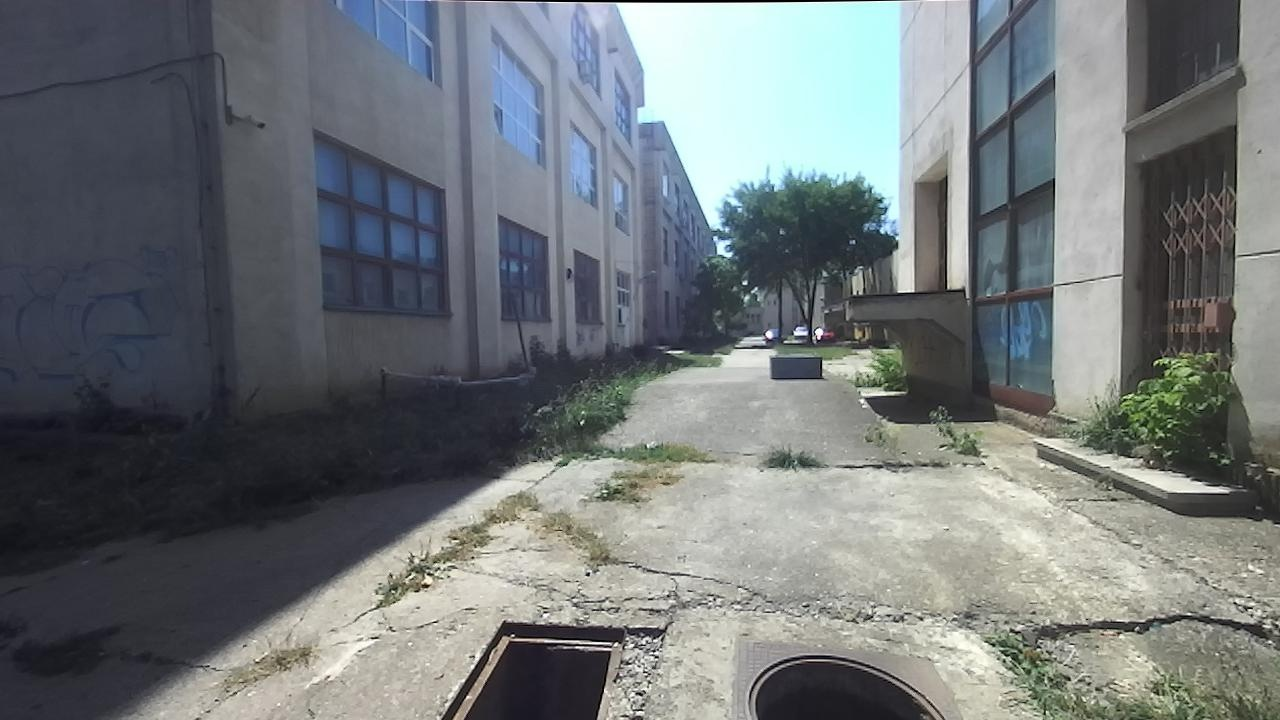drain: (436, 611, 629, 718), (736, 647, 949, 718)
